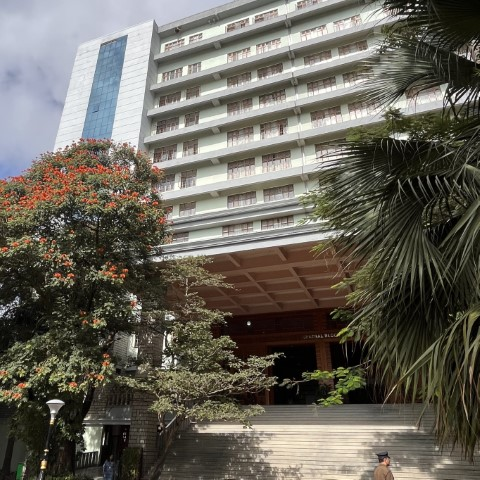Central Block: (55, 11, 480, 480)
